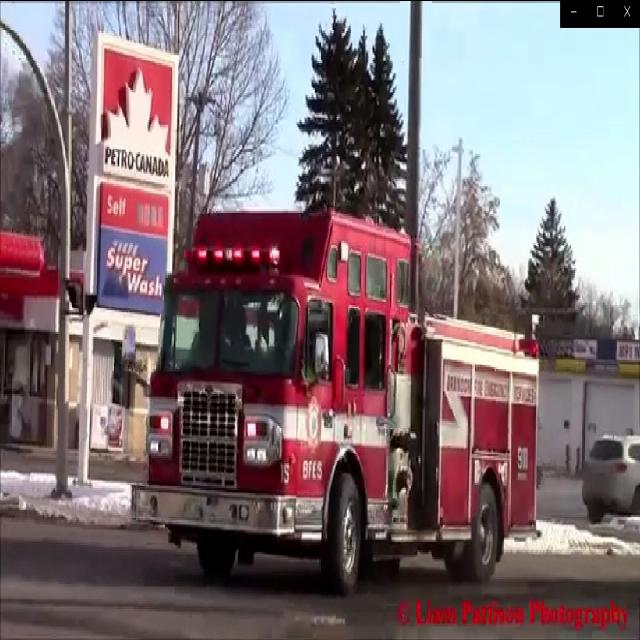emergency: (115, 197, 542, 604)
